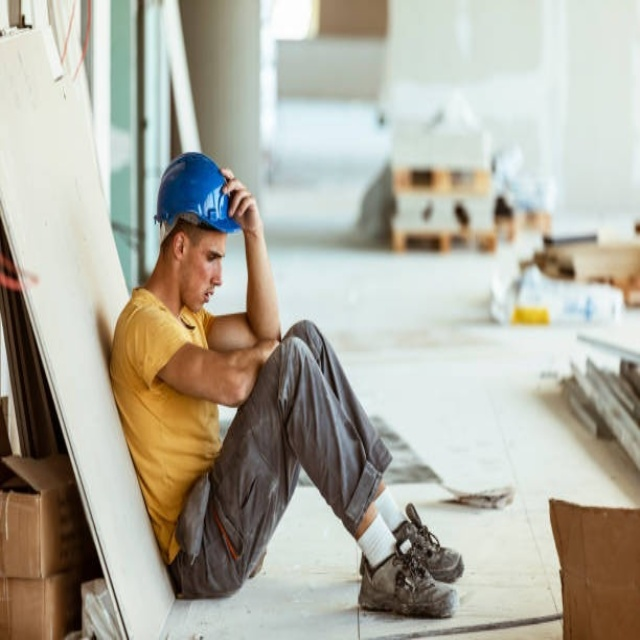Sin_gafas: (193, 243, 225, 270)
Sin_guantes: (218, 160, 261, 237)
Sin_mascara: (190, 282, 222, 311)
